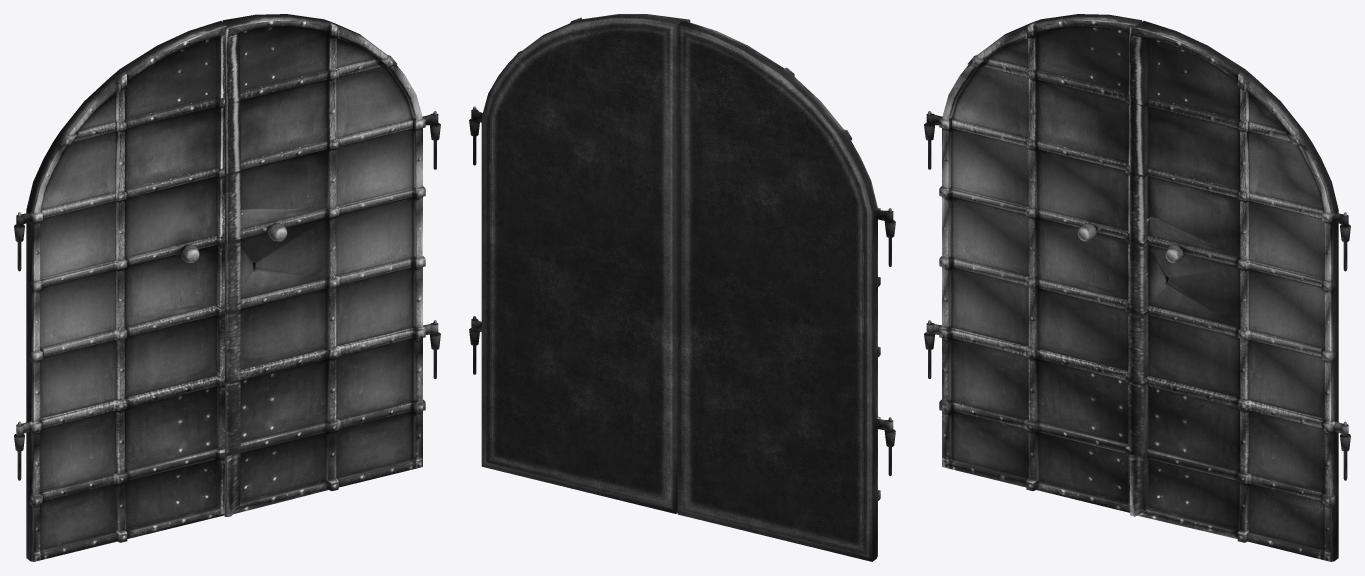
Rendered from Old_Basement_Door_.fbx.
3 renders of one model, left to right at view 1: azimuth 30°, elevation 25°; view 2: azimuth 150°, elevation 25°; view 3: azimuth 330°, elevation 25°, orthographic.
Parts seen in each view (by area): view 1: Big_Door_L, Big_Door_R; view 2: Big_Door_L, Big_Door_R; view 3: Big_Door_R, Big_Door_L.
Part boxes in pixels (box(x1,y1,x2,y2)): Big_Door_L: box(14, 21, 226, 561); Big_Door_R: box(222, 14, 440, 516); Big_Door_L: box(677, 21, 895, 561); Big_Door_R: box(469, 14, 690, 513); Big_Door_R: box(1129, 21, 1350, 561); Big_Door_L: box(924, 14, 1142, 512).
Size of the model in its own units: 9.9 by 0.6884 by 10.93.
